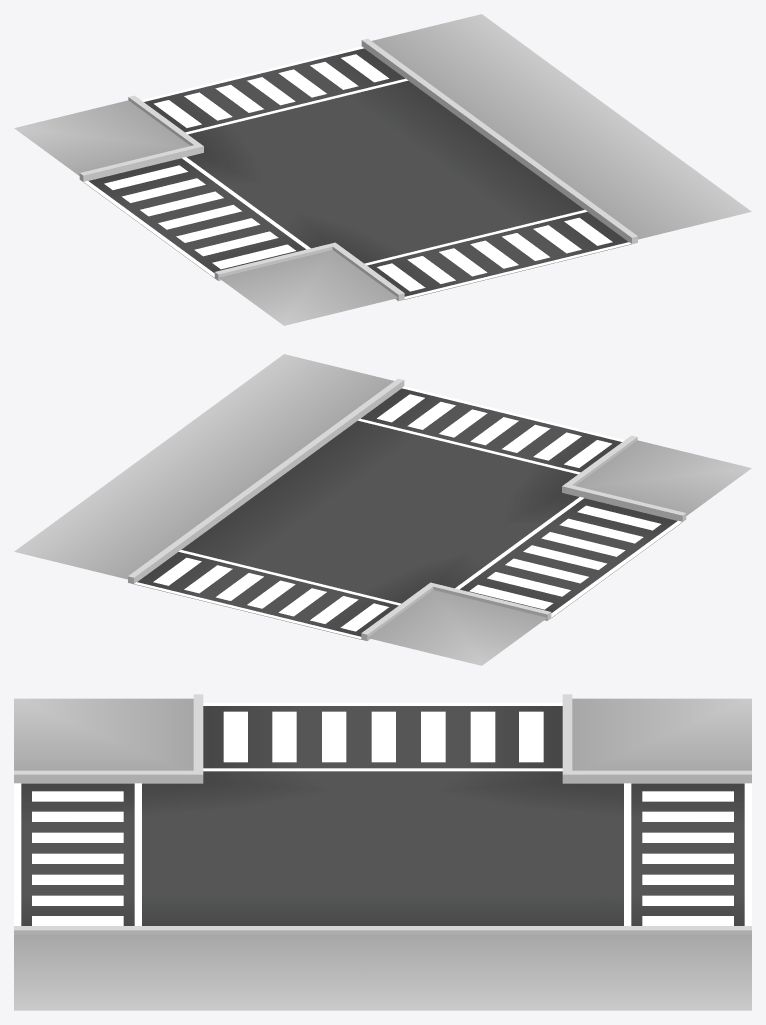
File: city2-road-026.glb
3 views of the same model, one above another, from view 1: azimuth 30°, elevation 25°; view 2: azimuth 150°, elevation 25°; view 3: azimuth 270°, elevation 25° (orthographic). The views are drawn at different scales.
Visible parts, largest first — view 1: road_026; view 2: road_026; view 3: road_026.
Boxes of the visible parts, bbox=[...] form: road_026: bbox=[14, 14, 751, 325]; road_026: bbox=[14, 354, 751, 665]; road_026: bbox=[14, 694, 751, 1010].
Size of the model in its own units: 15 by 0.2 by 15.
Materials: 1 (1 with a texture image).
